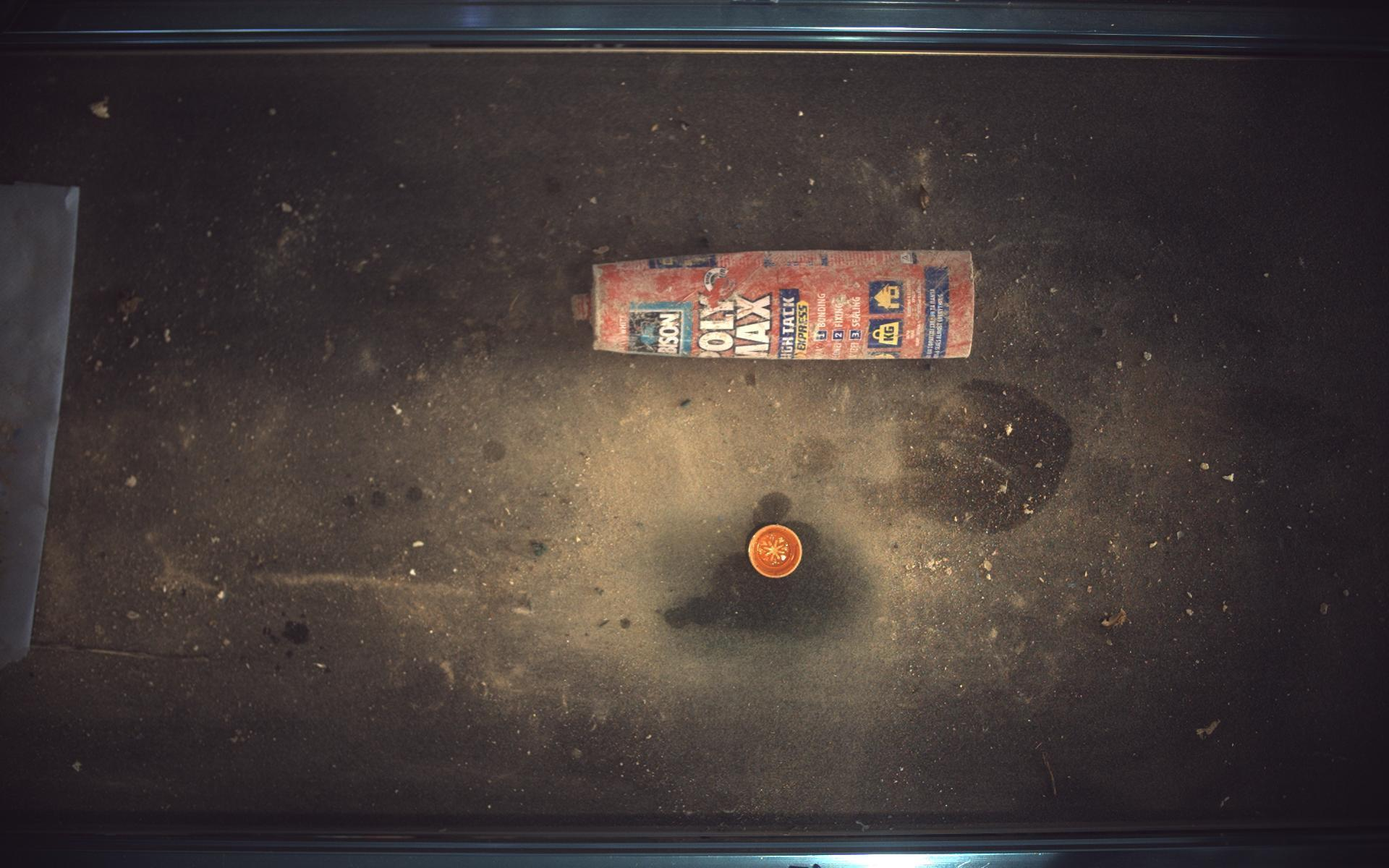general_w: (749, 525, 804, 579)
plastic: (572, 250, 977, 359)
